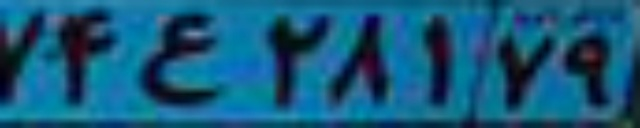1: (418, 11, 454, 106)
2: (264, 13, 328, 108)
4: (57, 10, 117, 104)
7: (494, 34, 555, 111), (0, 9, 43, 104)
8: (329, 13, 393, 109)
9: (561, 35, 608, 109)
ain: (133, 13, 224, 106)
